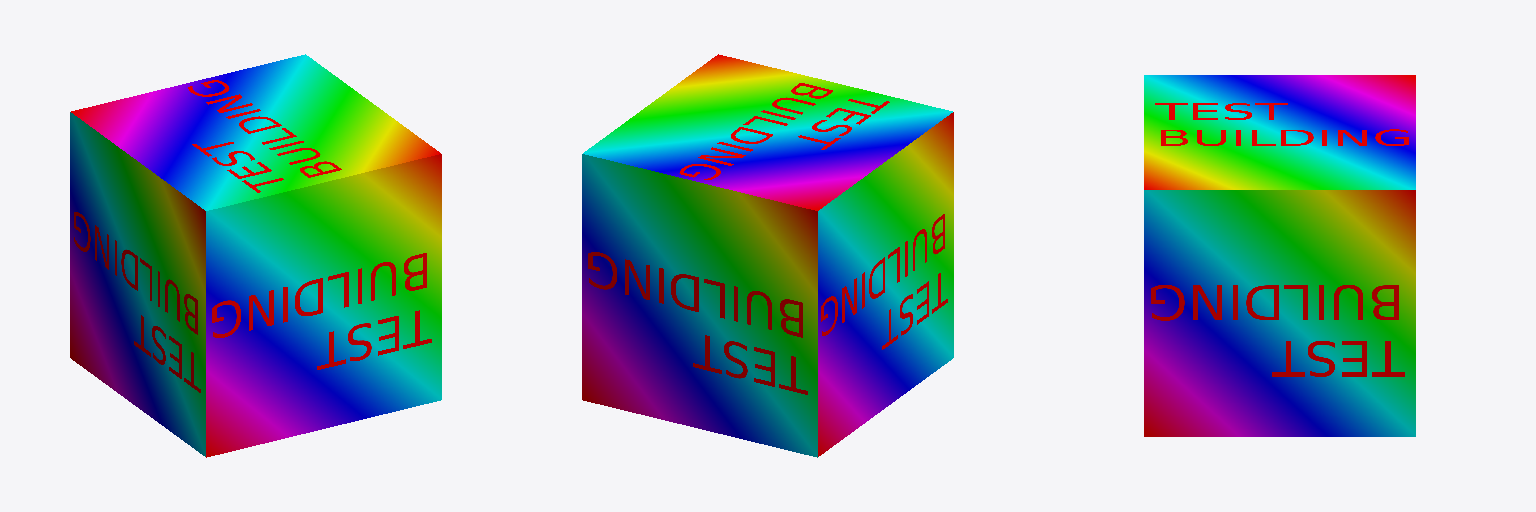
3 renders of one model, left to right at view 1: azimuth 30°, elevation 25°; view 2: azimuth 150°, elevation 25°; view 3: azimuth 270°, elevation 25°, orthographic.
Parts seen in each view (by area): view 1: Cube_Cube.001; view 2: Cube_Cube.001; view 3: Cube_Cube.001.
Part boxes in pixels (x1,y1,x2,y2): Cube_Cube.001: (70, 54, 441, 457); Cube_Cube.001: (582, 54, 953, 457); Cube_Cube.001: (1144, 75, 1415, 436).
Bounding box in the file's own units: 2 × 2 × 2.
1 materials, 1 textured.